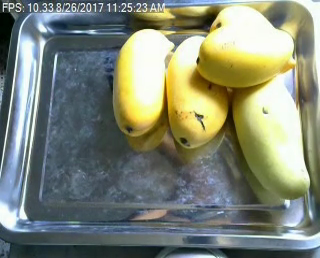Mango: (231, 63, 312, 199), (165, 35, 230, 148), (110, 27, 169, 134), (209, 4, 295, 74), (198, 25, 294, 86)
